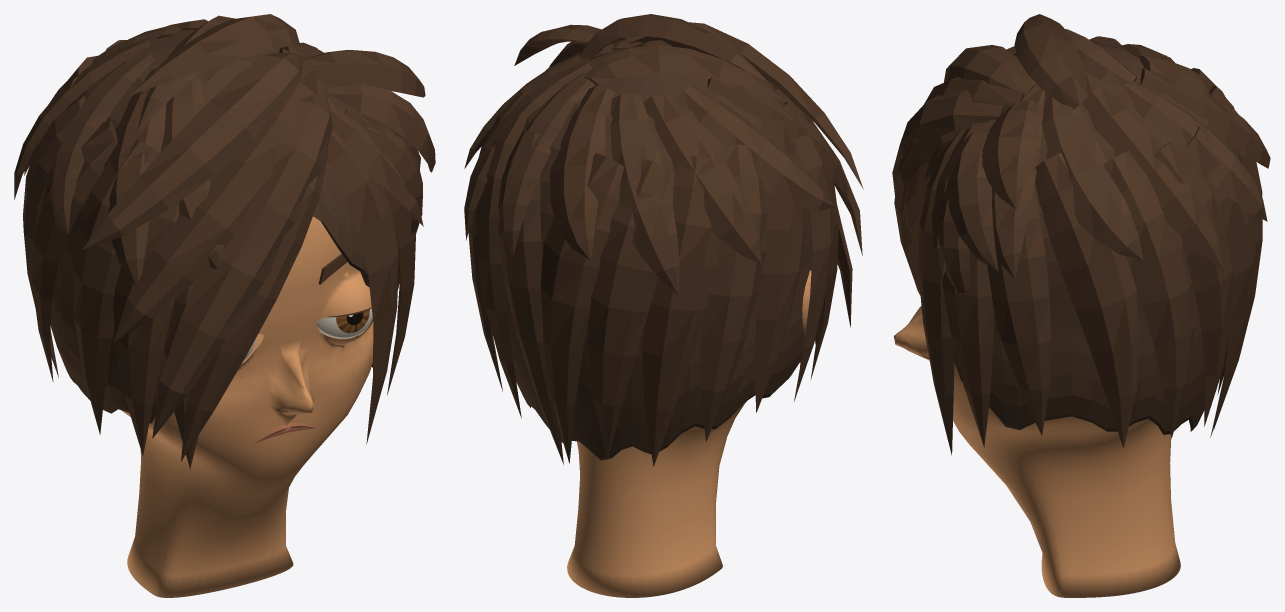
File: cabeca-feminina-05.glb
3 renders of one model, left to right at view 1: azimuth 30°, elevation 25°; view 2: azimuth 150°, elevation 25°; view 3: azimuth 270°, elevation 25°, orthographic. The views are drawn at different scales.
Parts seen in each view (by area): view 1: RCL_Corte_Feminino_01, RCL_Base_Feminina_05, RCL_nose_Pele, RCL_eye-R_Pele, RCL_eye-L_Pele, RCL_Globo_0.037; view 2: RCL_Corte_Feminino_01, RCL_Base_Feminina_05; view 3: RCL_Corte_Feminino_01, RCL_Base_Feminina_05, RCL_nose_Pele.
Part boxes in pixels (bbox=[...]): RCL_Corte_Feminino_01: bbox=[14, 14, 435, 469]; RCL_Base_Feminina_05: bbox=[121, 216, 373, 597]; RCL_nose_Pele: bbox=[267, 339, 314, 425]; RCL_eye-R_Pele: bbox=[302, 267, 372, 360]; RCL_eye-L_Pele: bbox=[235, 311, 279, 380]; RCL_Globo_0.037: bbox=[317, 308, 372, 338]; RCL_Corte_Feminino_01: bbox=[464, 14, 863, 466]; RCL_Base_Feminina_05: bbox=[567, 401, 746, 597]; RCL_Corte_Feminino_01: bbox=[892, 14, 1270, 455]; RCL_Base_Feminina_05: bbox=[953, 362, 1180, 597]; RCL_nose_Pele: bbox=[894, 306, 929, 360].
Size of the model in its own units: 0.222 by 0.3331 by 0.2118.
